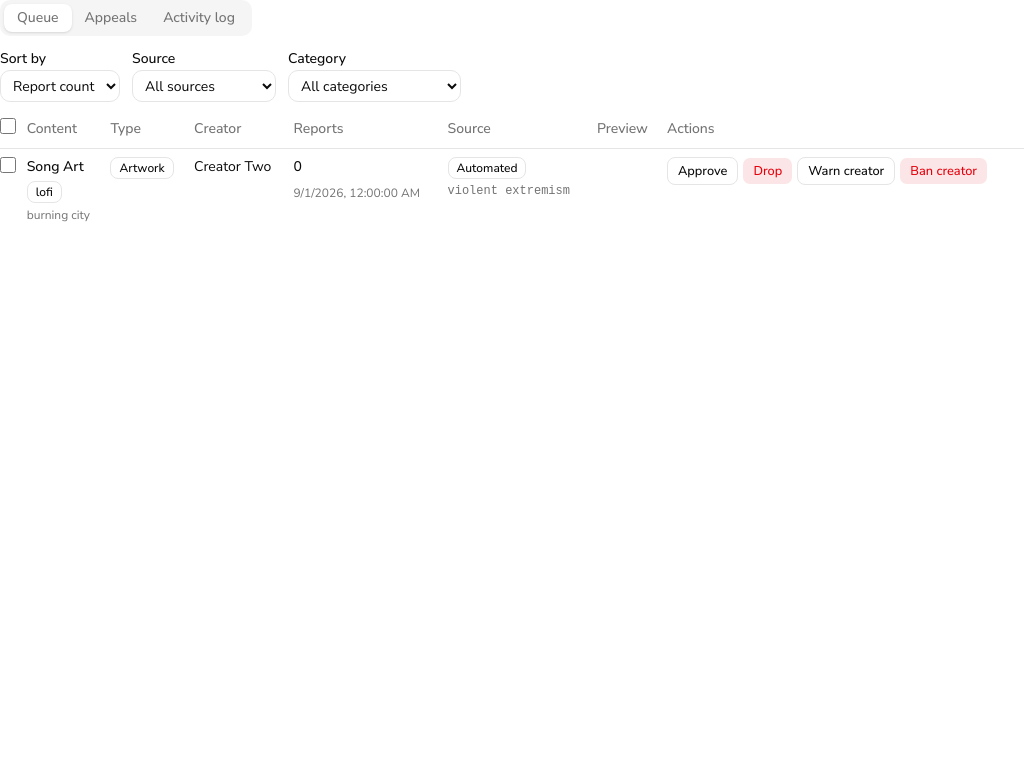
Scenario: ModerationDashboard › drops artwork after confirmation (#539)
What coordinates should you click on to do the following:
click the button "Drop"
I would click on:
 (768, 171)
Its box is [742,157,793,185].
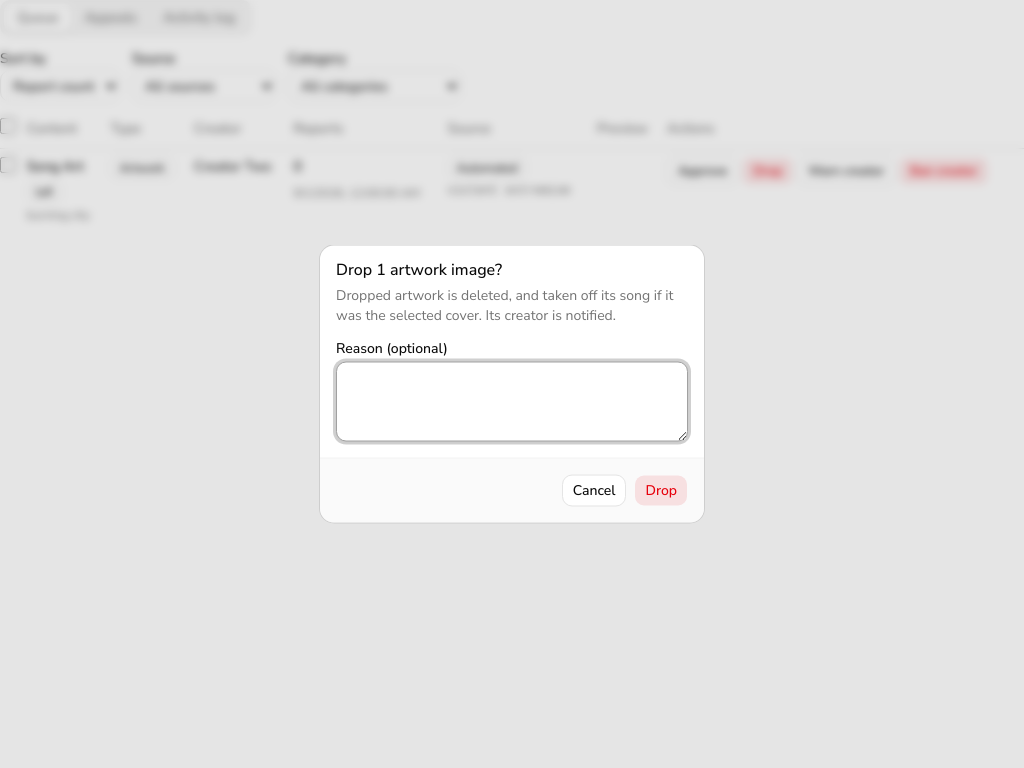
What coordinates should you click on to do the following:
click the button "Drop"
I would click on:
 (661, 490)
Its box is [634,474,688,506].
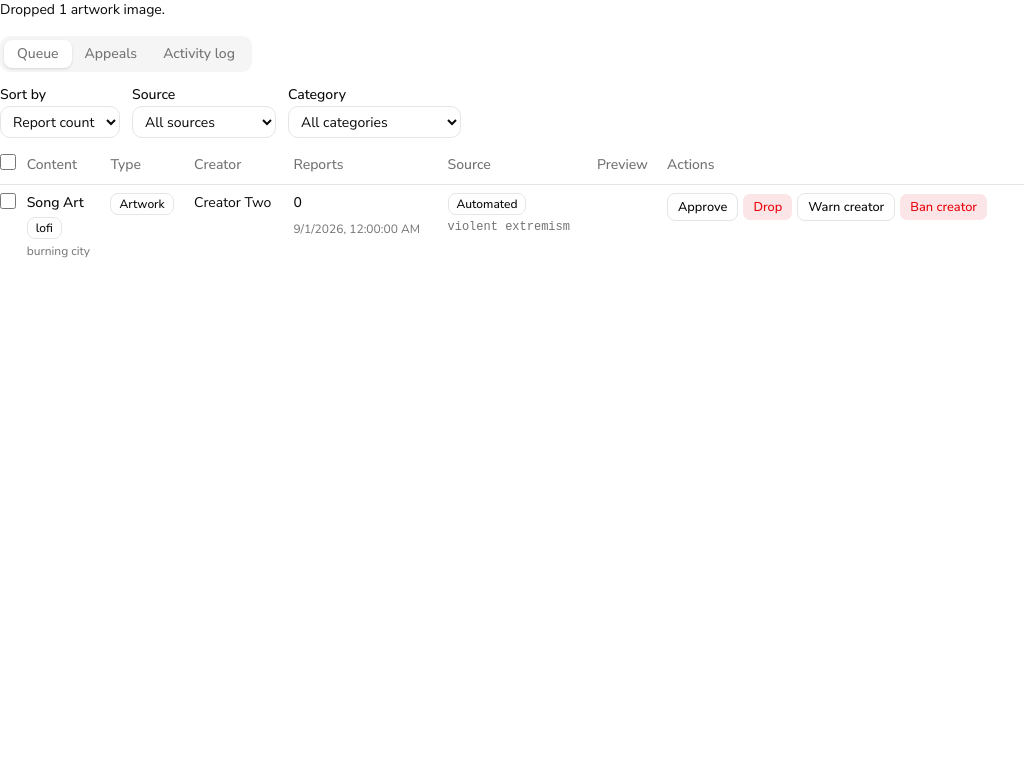
Result: the message reads "Dropped 1 artwork image." at [0,0,165,19]
